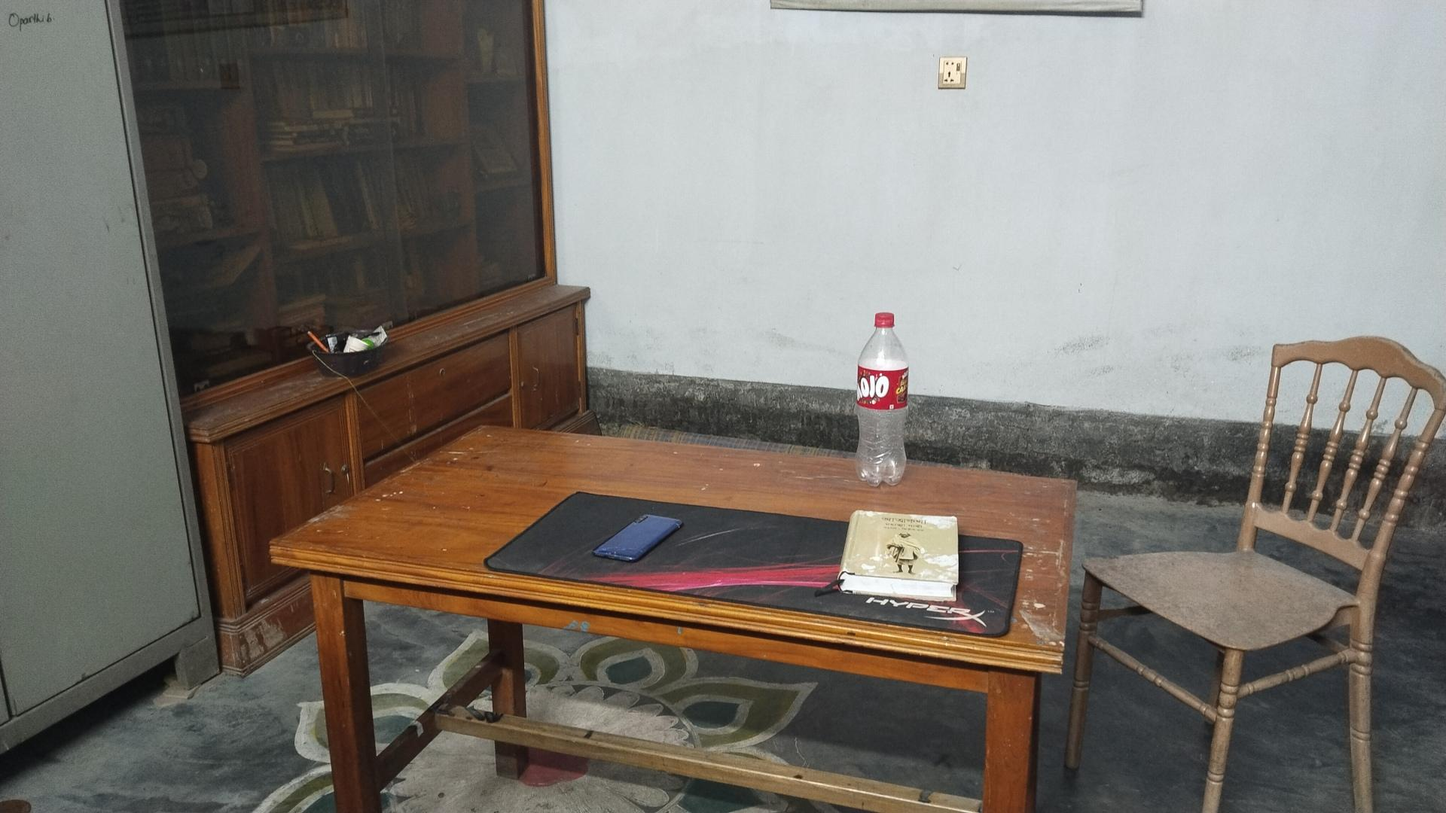Book: (843, 504, 961, 598)
Bottle: (857, 315, 908, 482)
Chair: (1088, 341, 1446, 813)
Phone: (597, 512, 683, 560)
Table: (284, 415, 1076, 813)
